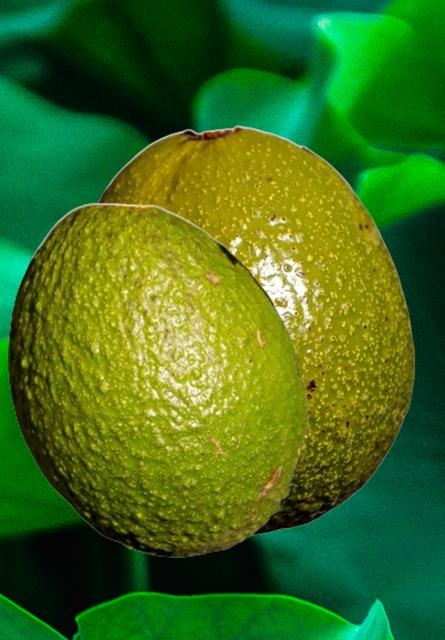avocado: (95, 125, 414, 536), (7, 202, 307, 556)
